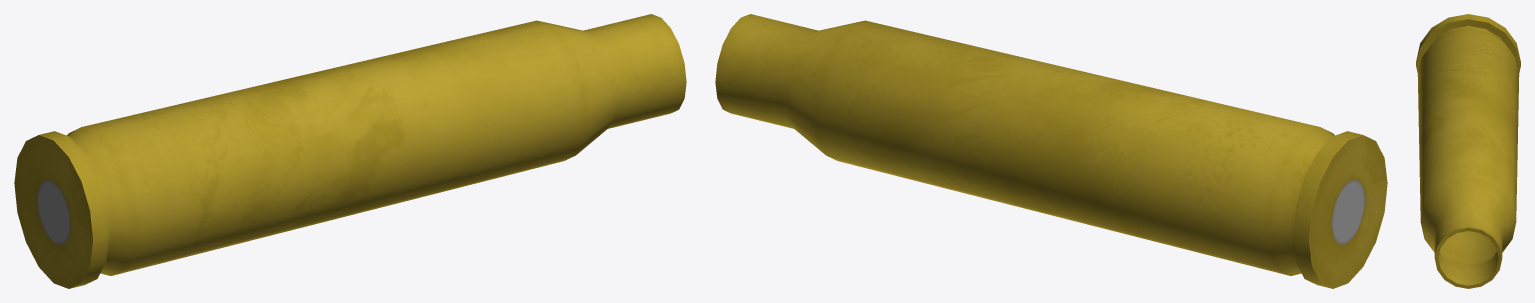
The model's file is vfe-rifle-long.fbx.
3 views of the same model, side by side, from view 1: azimuth 30°, elevation 25°; view 2: azimuth 150°, elevation 25°; view 3: azimuth 270°, elevation 25° (orthographic). The views are drawn at different scales.
Visible parts, largest first — view 1: 5.56; view 2: 5.56; view 3: 5.56.
Part boxes in pixels (box(x1,y1,x2,y2)): 5.56: box(14, 14, 686, 288); 5.56: box(715, 14, 1387, 288); 5.56: box(1416, 14, 1520, 288).
Size of the model in its own units: 0.1176 by 0.0264 by 0.0264.
